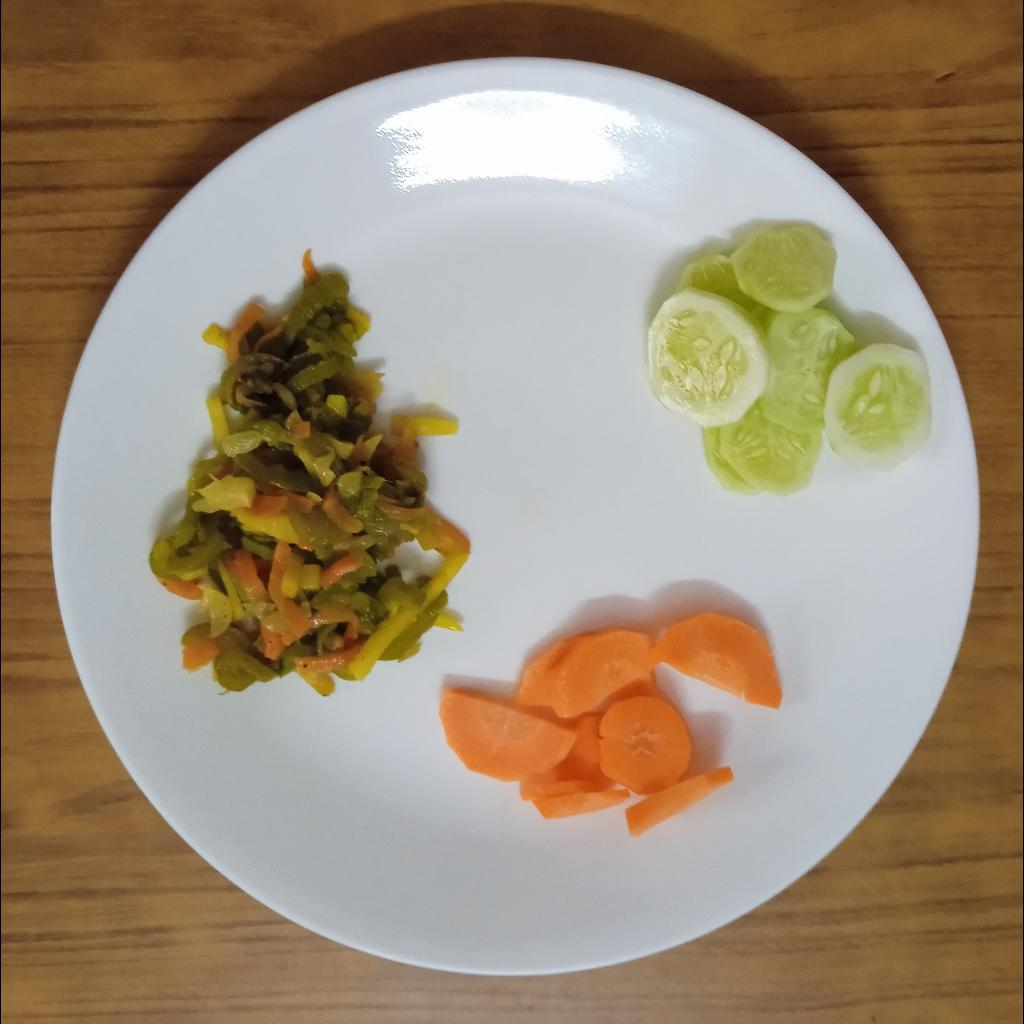carrot: (436, 609, 784, 839)
cucumber: (646, 225, 933, 495)
vegetable: (140, 253, 469, 699)
